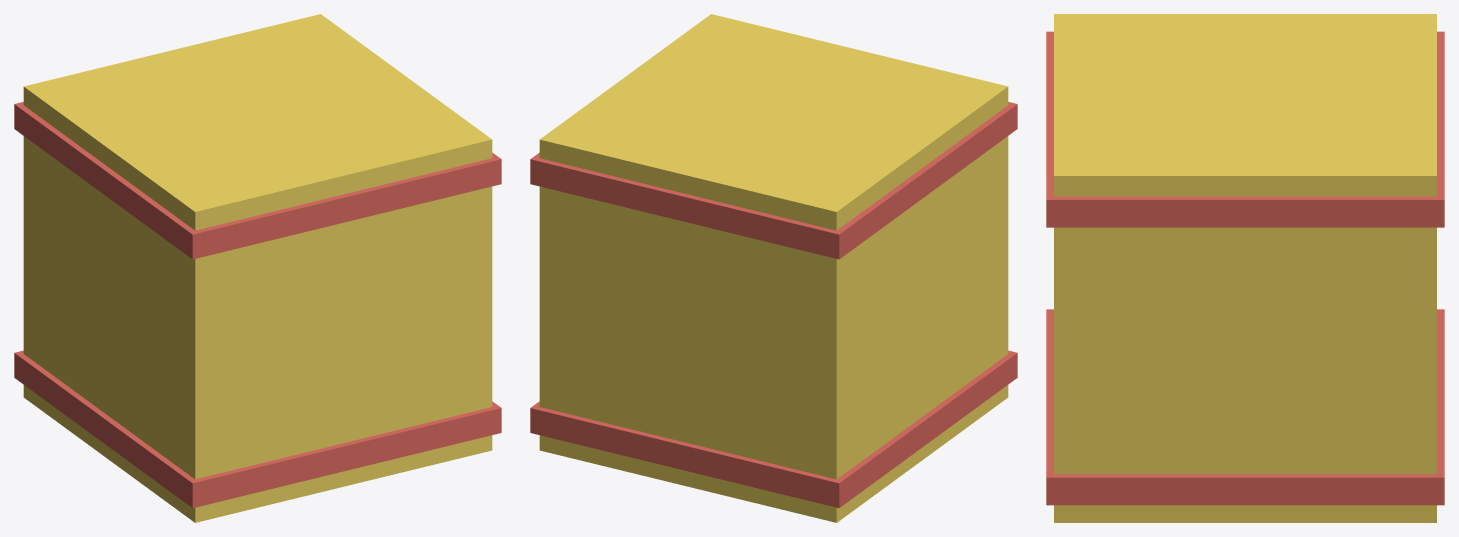
The model's file is dm_tictactoeblock.glb.
3 views of the same model, side by side, from view 1: azimuth 30°, elevation 25°; view 2: azimuth 150°, elevation 25°; view 3: azimuth 270°, elevation 25° (orthographic). The views are drawn at different scales.
Visible parts, largest first — view 1: TicTacToeBlock; view 2: TicTacToeBlock; view 3: TicTacToeBlock.
Part boxes in pixels (left/top/right/bottom): TicTacToeBlock: left=14, top=14, right=501, bottom=522; TicTacToeBlock: left=530, top=14, right=1017, bottom=522; TicTacToeBlock: left=1046, top=14, right=1444, bottom=522.
Bounding box in the file's own units: 0.52 × 0.5 × 0.52.
